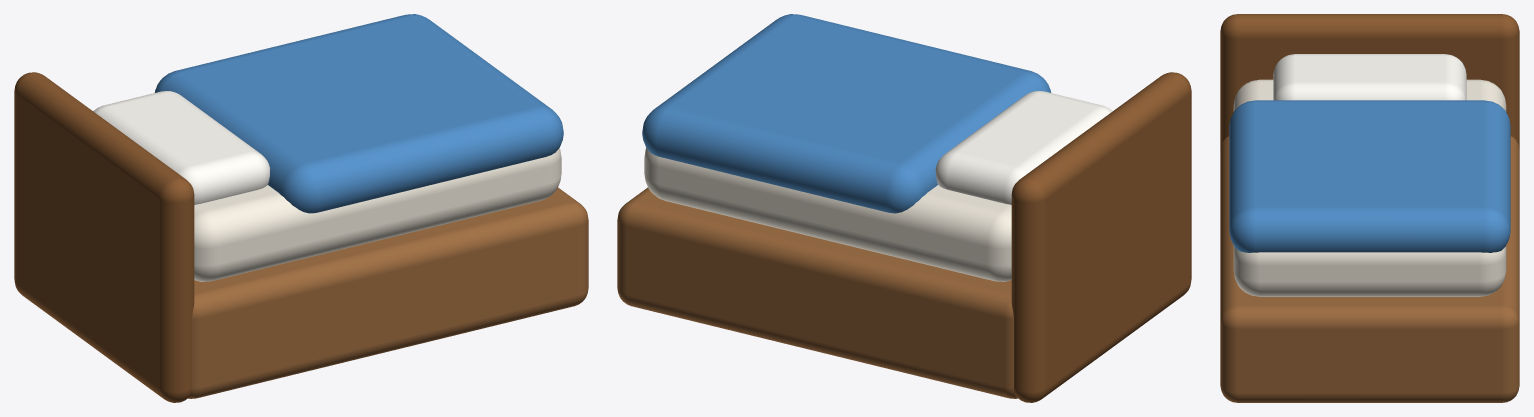
File: bed.glb
3 views of the same model, side by side, from view 1: azimuth 30°, elevation 25°; view 2: azimuth 150°, elevation 25°; view 3: azimuth 270°, elevation 25° (orthographic). The views are drawn at different scales.
Parts seen in each view (by area): view 1: Blanket, Frame, Headboard, Mattress, Pillow; view 2: Blanket, Frame, Headboard, Mattress, Pillow; view 3: Blanket, Frame, Headboard, Mattress, Pillow.
Part boxes in pixels (<box>): Blanket: <box>154,14,563,213</box>; Frame: <box>188,187,588,398</box>; Headboard: <box>14,72,194,402</box>; Mattress: <box>194,147,561,281</box>; Pillow: <box>93,91,270,204</box>; Blanket: <box>642,14,1051,213</box>; Frame: <box>617,187,1017,398</box>; Headboard: <box>1011,72,1191,402</box>; Mattress: <box>644,147,1011,281</box>; Pillow: <box>935,91,1112,204</box>; Blanket: <box>1229,100,1510,252</box>; Frame: <box>1220,136,1519,402</box>; Headboard: <box>1220,14,1519,149</box>; Mattress: <box>1233,79,1506,296</box>; Pillow: <box>1273,54,1466,100</box>.
Bounding box in the file's own units: 0.52 × 0.26 × 0.34.
